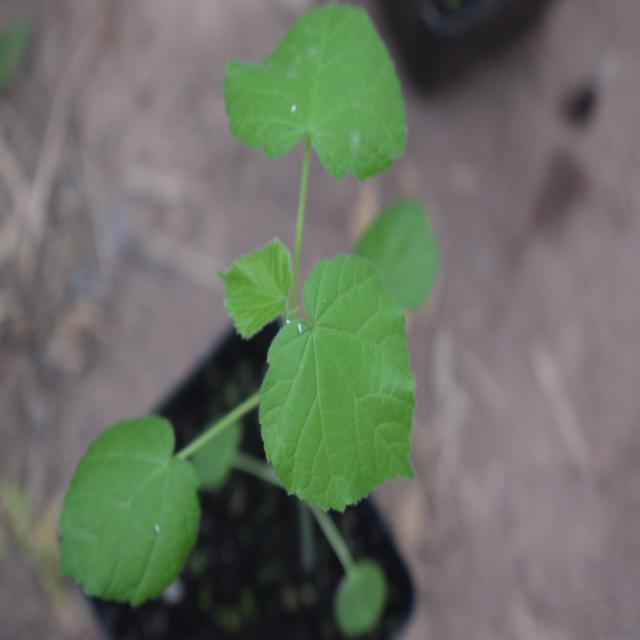abutilon theophrasti: (43, 32, 460, 606)
